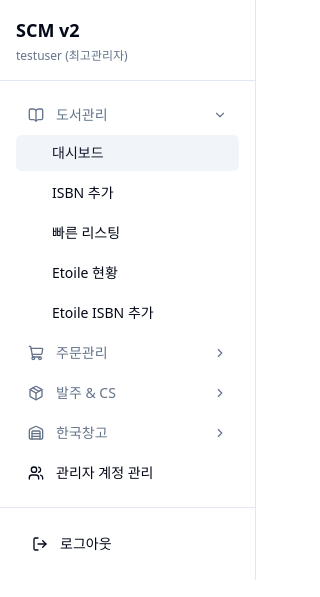
it: Sidebar › 토글 동작 › 그룹 헤더 클릭 시 하위 항목이 접힌다
This screenshot has width=320, height=597.
Click the button "도서관리": click(128, 115) [16, 97, 239, 133]
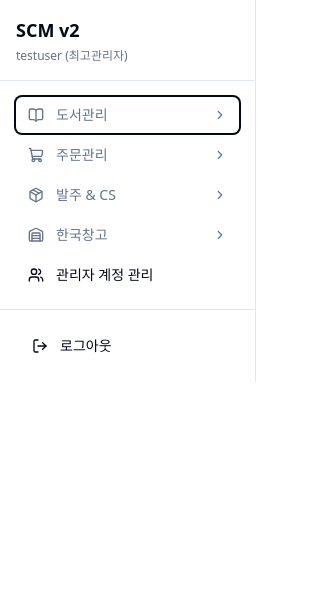
expect the link "대시보드" is gone: met
expect the link "ISBN 추가" is gone: met
expect the link "빠른 리스팅" is gone: met
